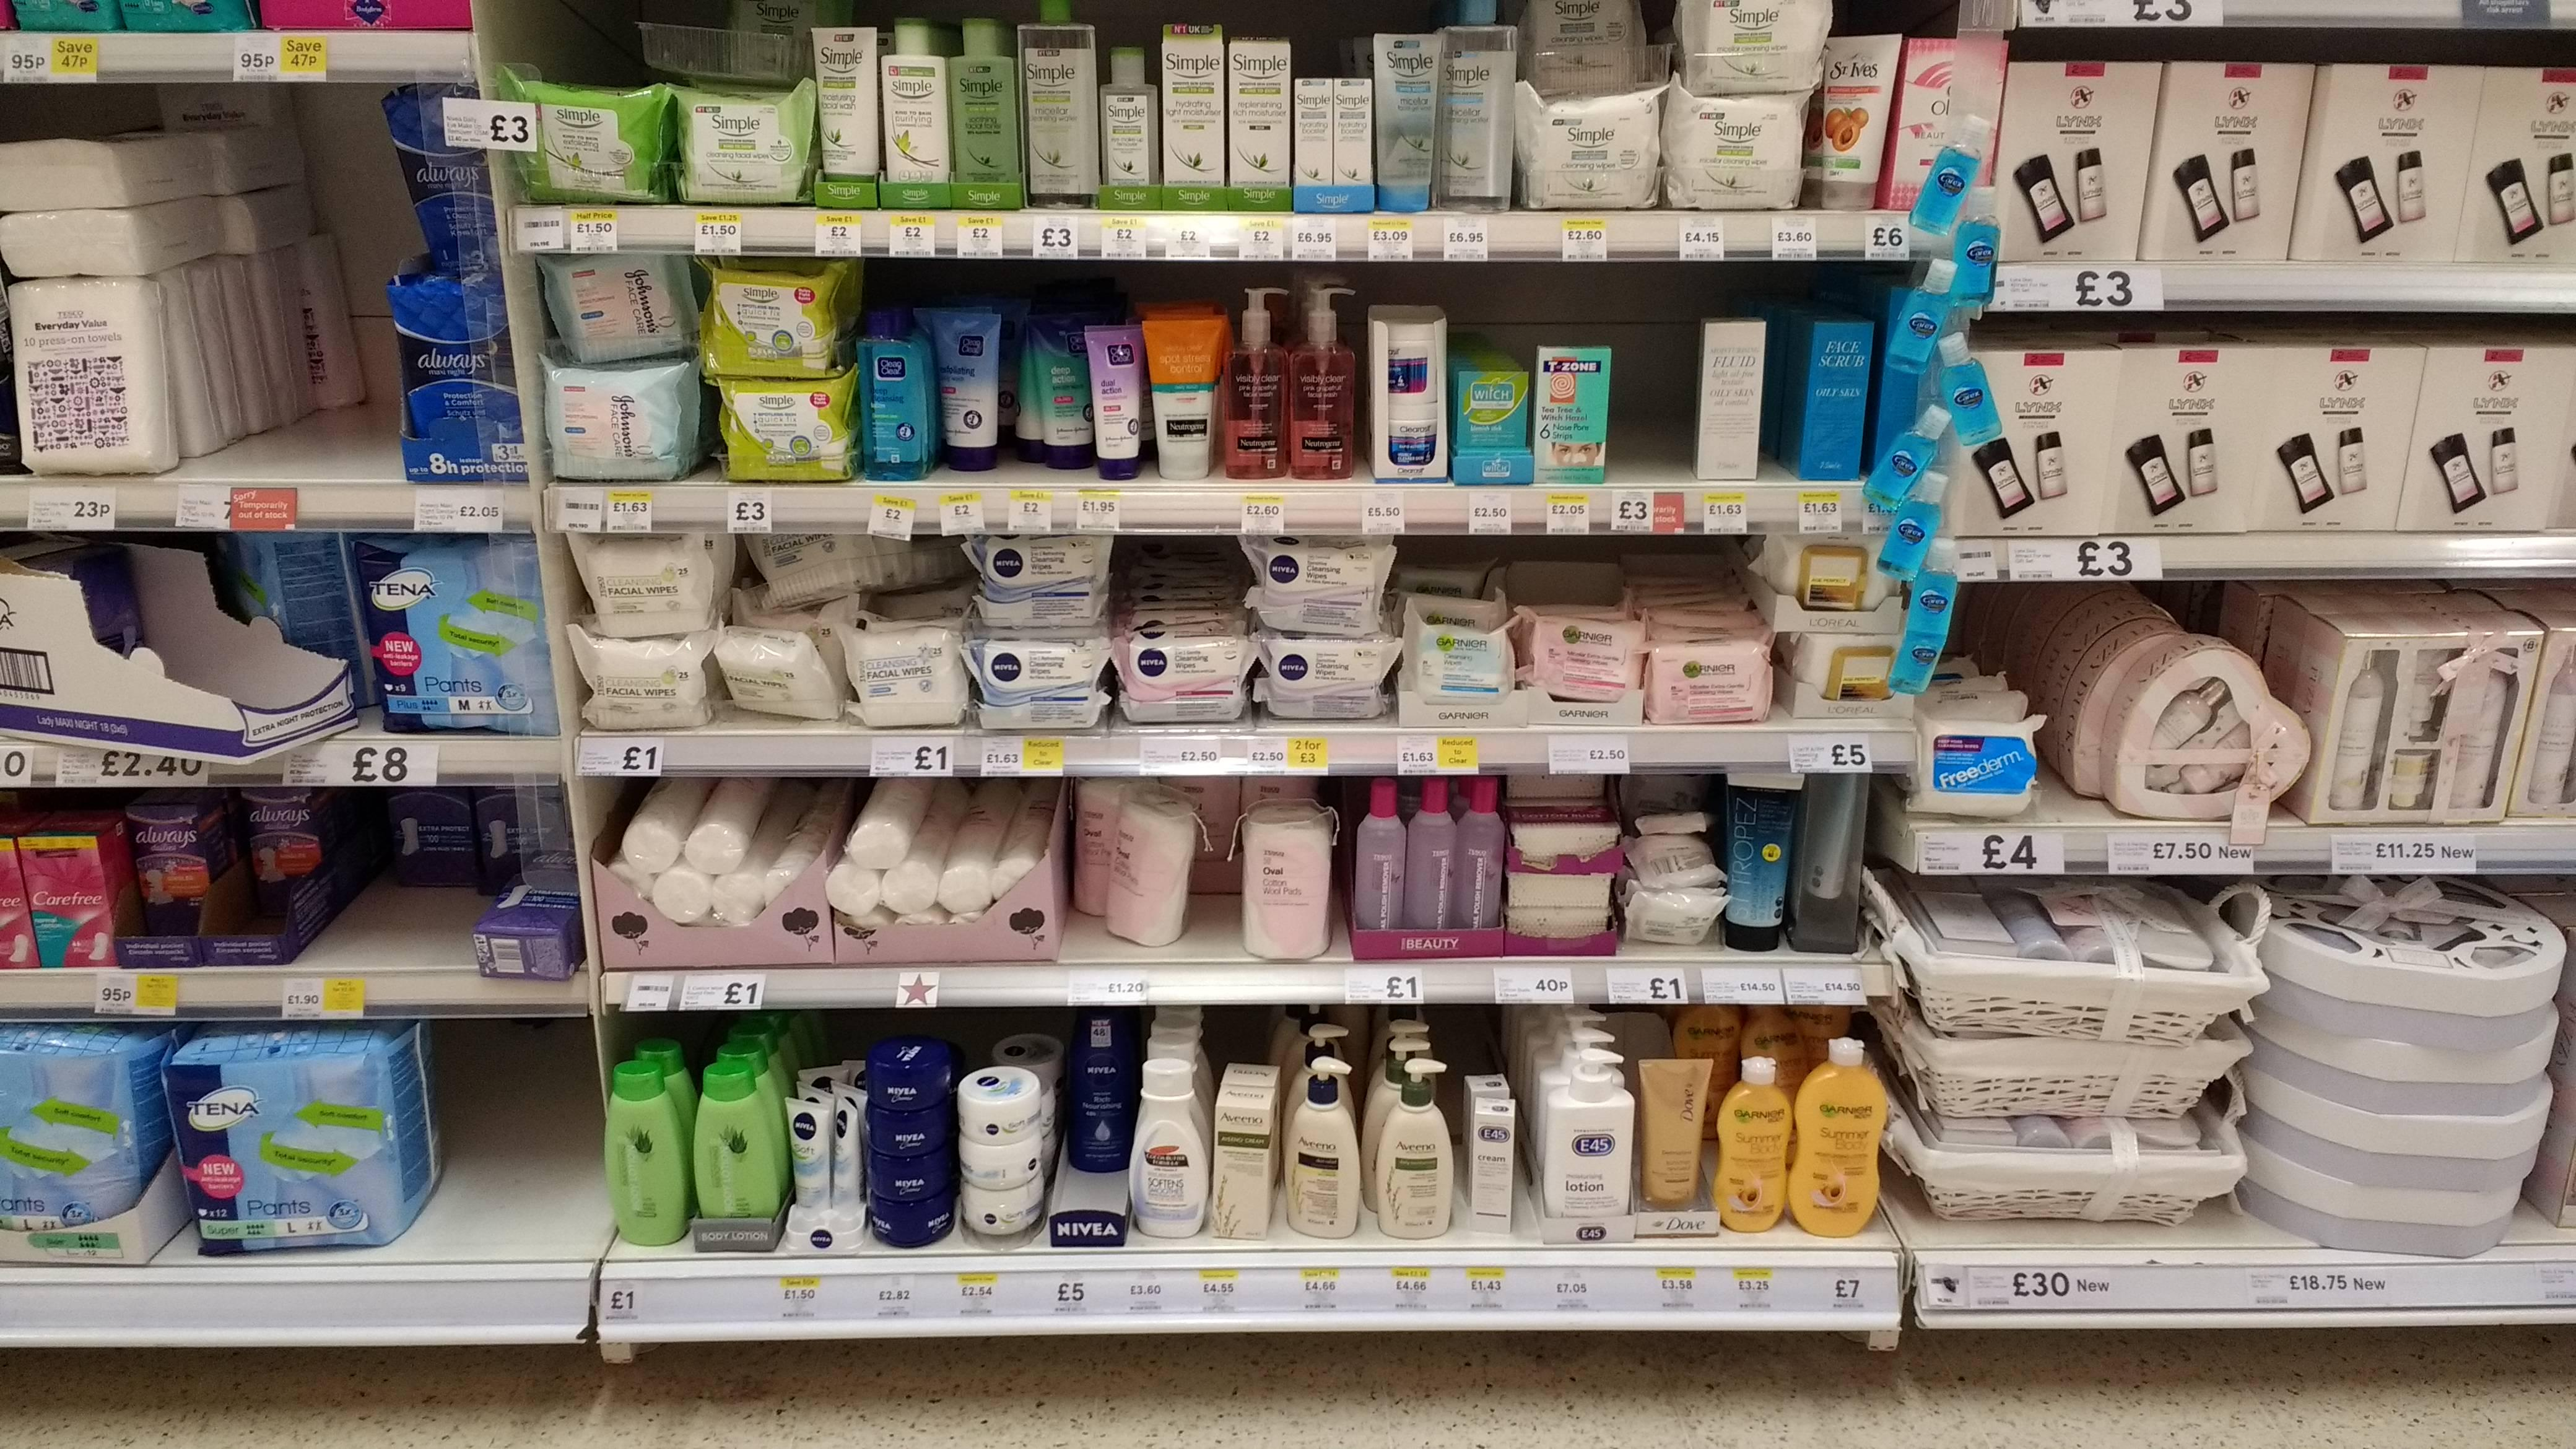misalignment: (2, 529, 347, 745), (1092, 789, 1203, 943), (711, 617, 844, 725), (1629, 807, 1723, 950), (472, 863, 573, 989), (1026, 304, 1090, 462), (782, 1102, 828, 1215), (832, 1100, 863, 1210)
